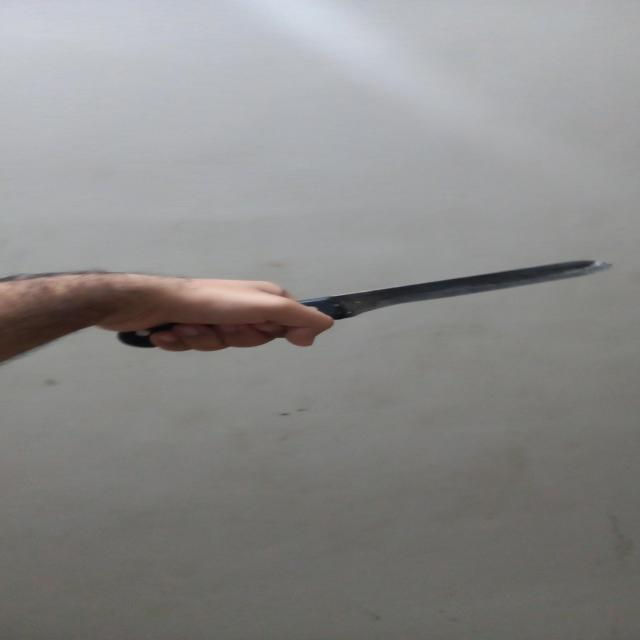Knife: (119, 259, 616, 348)
Person: (0, 272, 338, 366)
